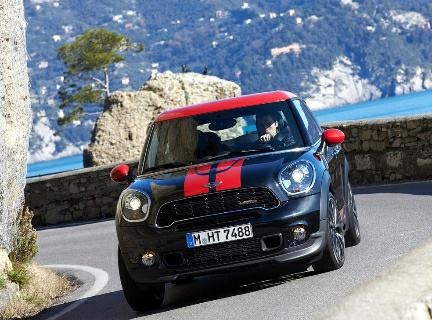MINI-JCWPACEMAN: (113, 91, 367, 300)
